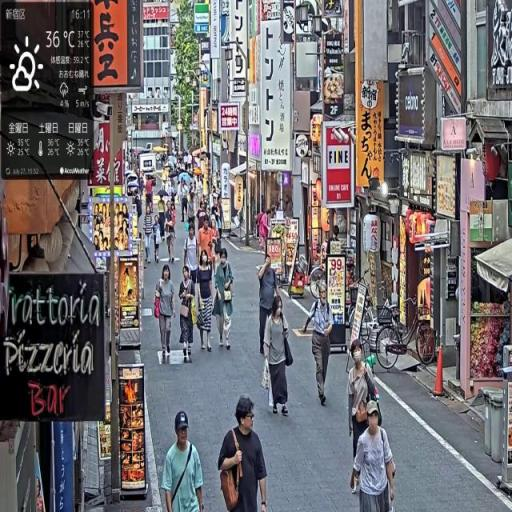person: (218, 396, 270, 512), (352, 399, 397, 512), (347, 343, 381, 485), (162, 408, 206, 512), (265, 299, 295, 422), (308, 280, 336, 411), (257, 254, 281, 367), (194, 248, 217, 356), (154, 265, 178, 366), (215, 247, 236, 351), (180, 264, 199, 364), (164, 200, 178, 264), (152, 213, 163, 267), (146, 175, 155, 215)
